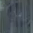bike lane: (2, 1, 32, 28)
